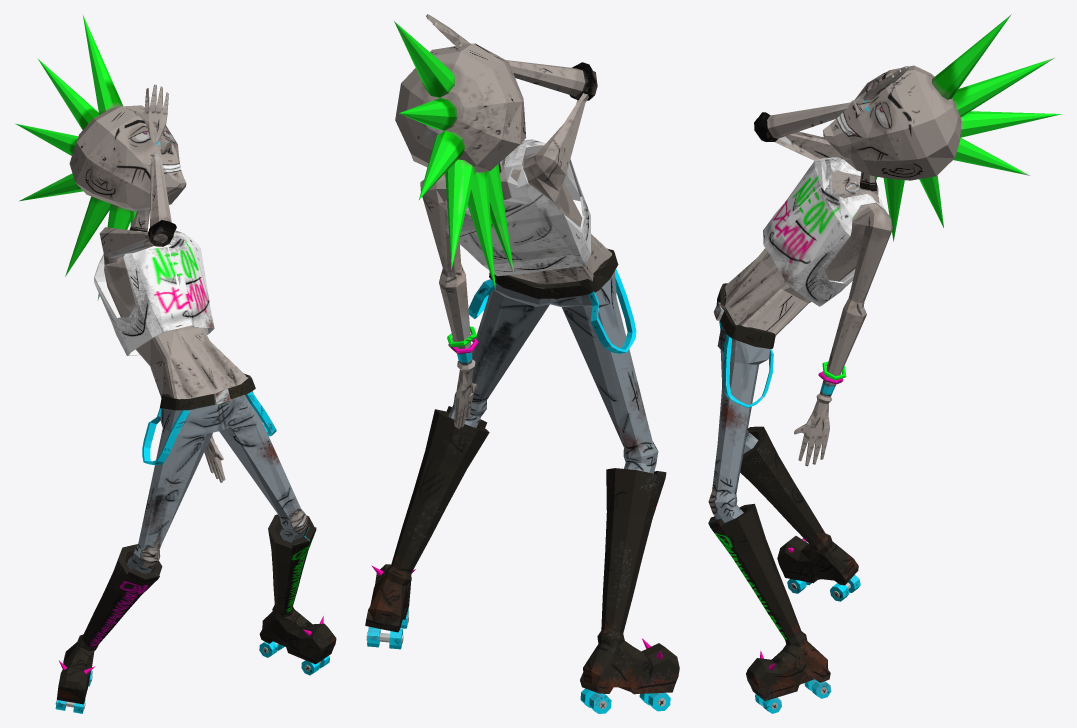
The model's file is punkAnimation_000070.obj.
3 views of the same model, side by side, from view 1: azimuth 30°, elevation 25°; view 2: azimuth 150°, elevation 25°; view 3: azimuth 270°, elevation 25° (orthographic). The views are drawn at different scales.
Visible parts, largest first — view 1: Cube.004_Cube.003; view 2: Cube.004_Cube.003; view 3: Cube.004_Cube.003.
Part boxes in pixels (x1=…): Cube.004_Cube.003: x1=15, y1=15, x2=336, y2=713; Cube.004_Cube.003: x1=365, y1=14, x2=679, y2=713; Cube.004_Cube.003: x1=708, y1=14, x2=1061, y2=713.
Bounding box in the file's own units: 2.92 × 6.43 × 3.26.
